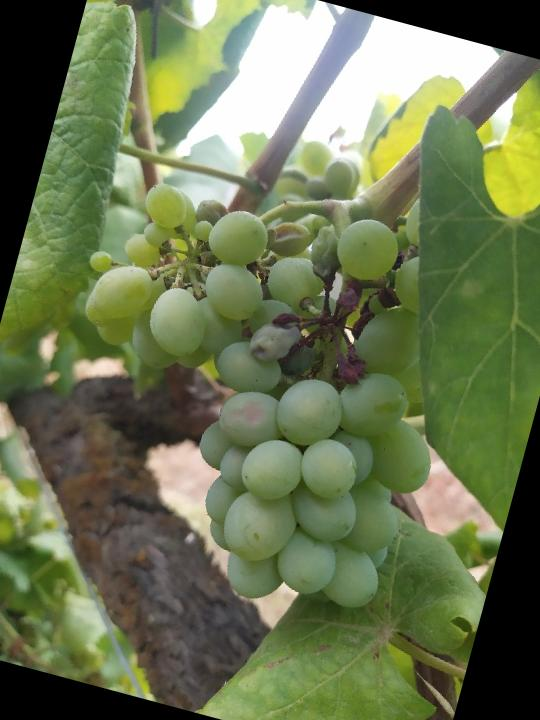grape: (21, 151, 492, 641)
